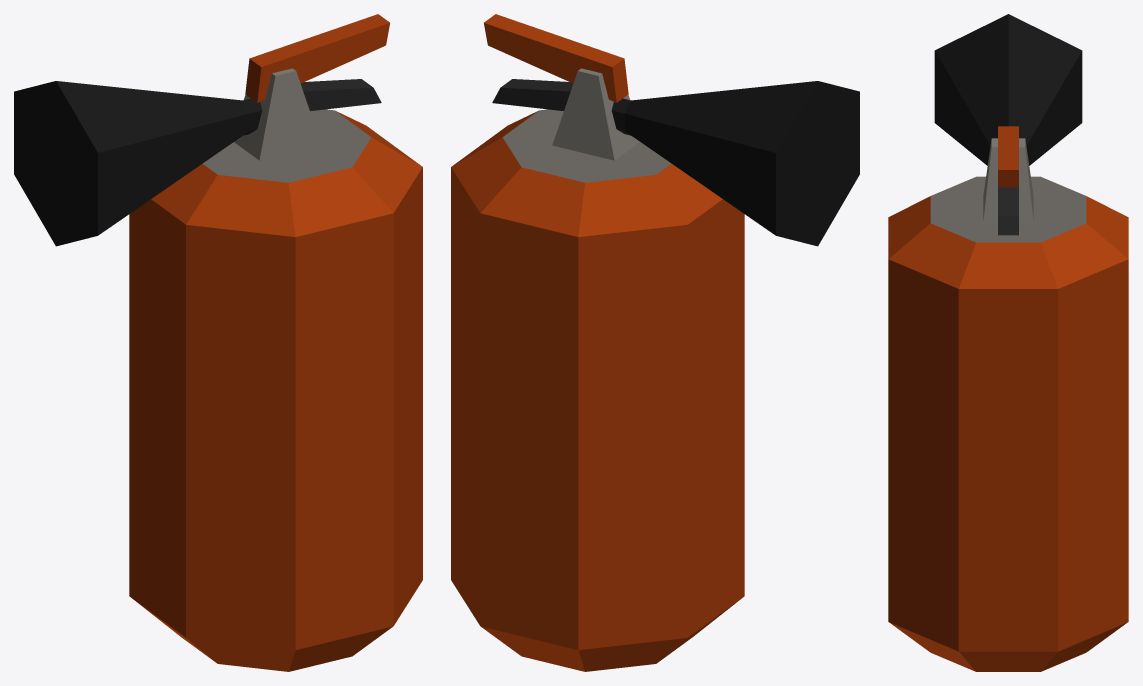
The model's file is fire_extinguisher.obj.
3 views of the same model, side by side, from view 1: azimuth 30°, elevation 25°; view 2: azimuth 150°, elevation 25°; view 3: azimuth 270°, elevation 25° (orthographic). The views are drawn at different scales.
Visible parts, largest first — view 1: body, cylinder, handle_t, top, handle_b; view 2: body, cylinder, handle_t, top, handle_b; view 3: body, cylinder, top, handle_t, handle_b.
Part boxes in pixels (bbox=[...]): body: bbox=[129, 109, 422, 671]; cylinder: bbox=[14, 81, 262, 246]; handle_t: bbox=[245, 14, 389, 102]; top: bbox=[234, 68, 321, 160]; handle_b: bbox=[301, 79, 381, 110]; body: bbox=[451, 109, 744, 671]; cylinder: bbox=[611, 81, 859, 246]; handle_t: bbox=[484, 14, 628, 102]; top: bbox=[552, 68, 639, 160]; handle_b: bbox=[492, 79, 572, 110]; body: bbox=[888, 176, 1128, 671]; cylinder: bbox=[934, 14, 1082, 165]; top: bbox=[983, 138, 1033, 222]; handle_t: bbox=[998, 126, 1018, 187]; handle_b: bbox=[998, 187, 1018, 235].
Size of the model in its own units: 0.5094 by 0.869 by 0.3562.
